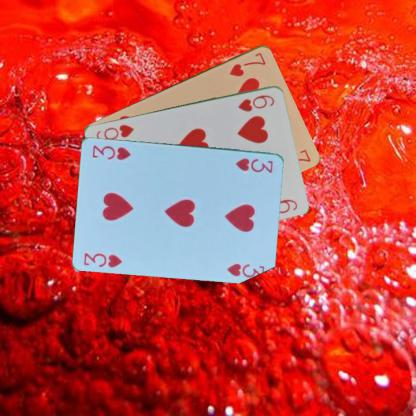3h: (82, 250, 124, 268), (233, 156, 274, 174)
6h: (235, 92, 276, 113)
7h: (227, 49, 267, 78)
